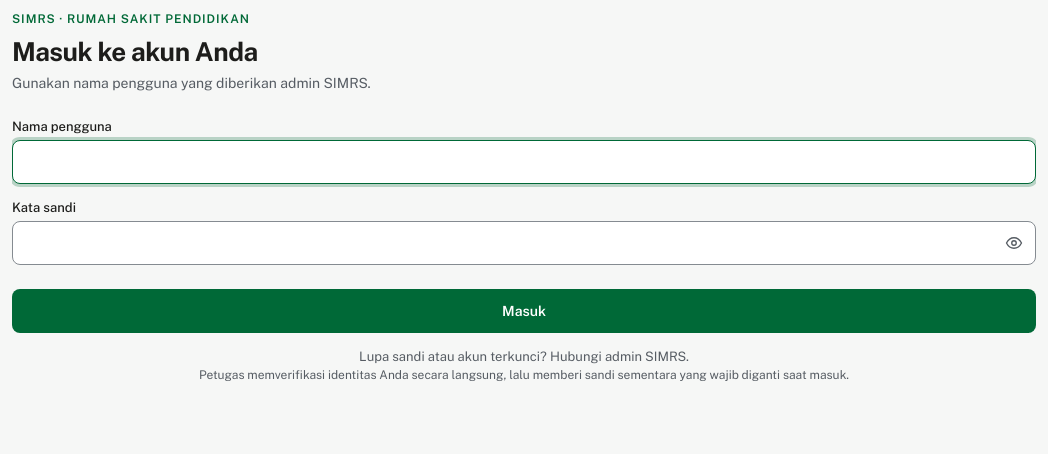
Scenario: LangkahSandi › kredensial salah: pesan di dekat form, sandi dikosongkan dan difokus
In the field with id "nama-pengguna": x=524, y=162 [12, 140, 1036, 184], type "contoh.perawat"
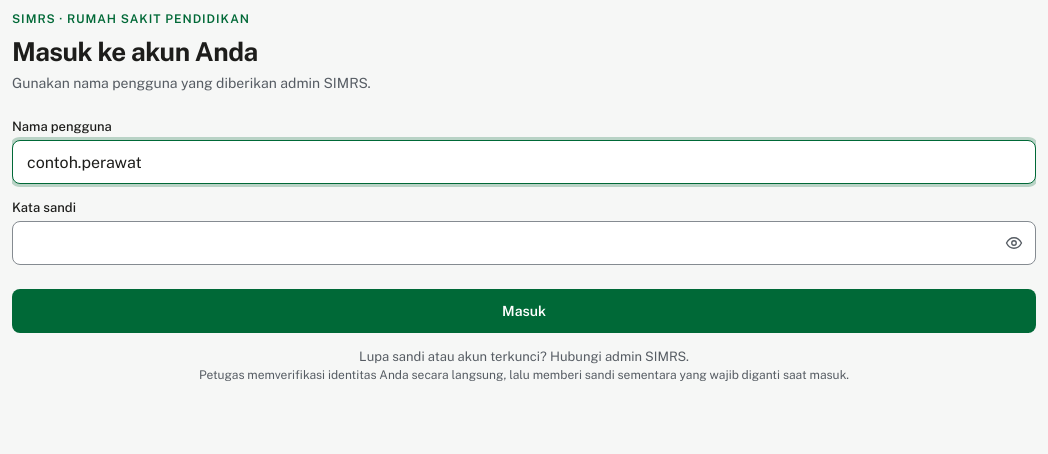
In the password field with id "sandi": x=524, y=243 [12, 221, 1036, 265], type "sandi-panjang-sekali"
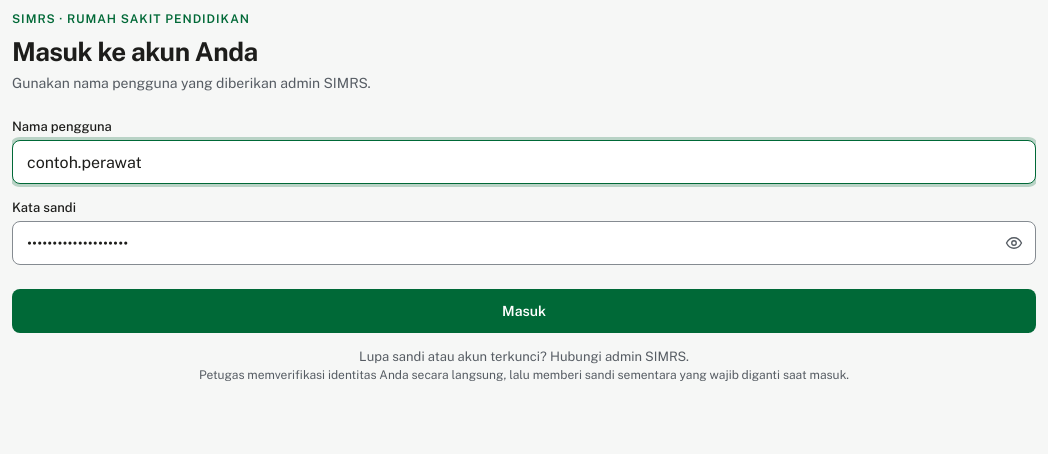
Submit the form, box [12, 119, 1036, 333]
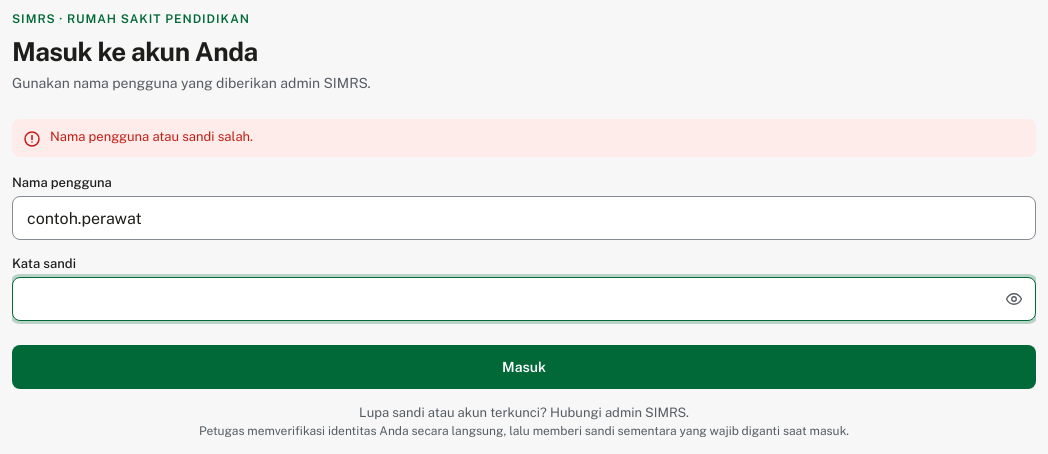
Check: the message "Nama pengguna atau sandi salah." is shown, box [12, 119, 1036, 157]
Check: the password field with id "sandi" is empty, box [12, 277, 1036, 321]
